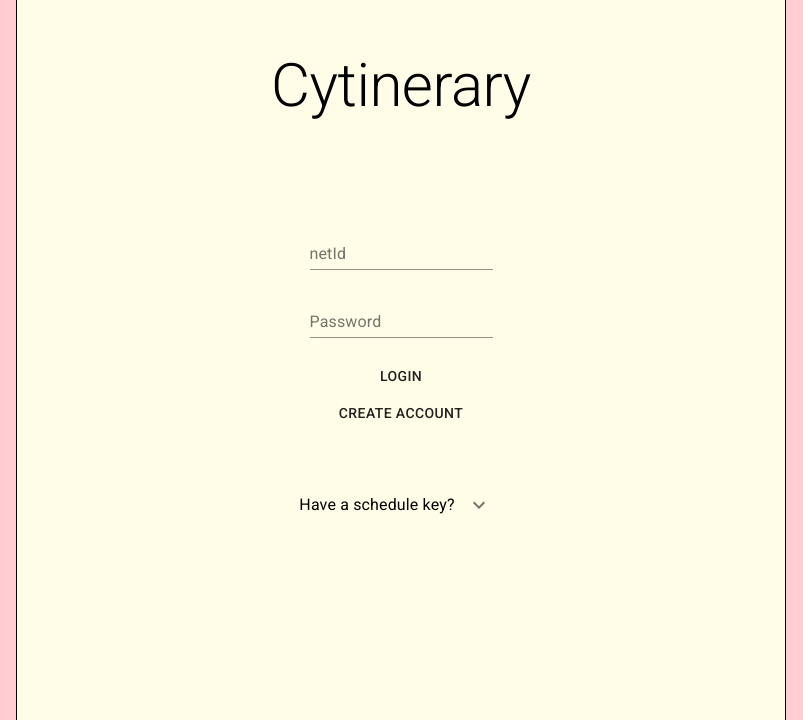
Test: LoginScreen › renders with schedule key section expanded after clicking expand button
Click the 3rd button at (479, 505), box x1=455 y1=481 x2=503 y2=529
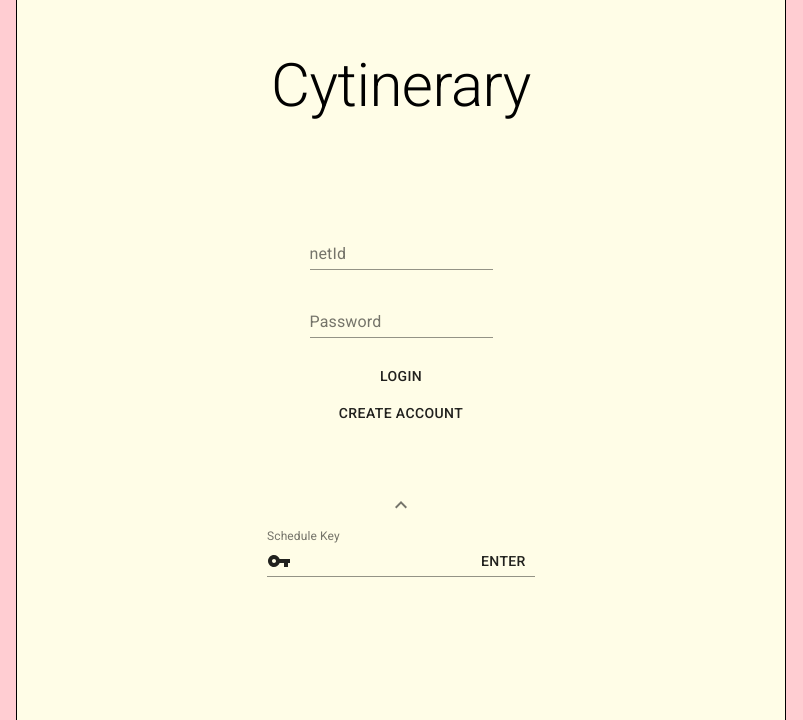
Expected: the text "Schedule Key" is shown, x1=267 y1=530 x2=339 y2=542
Result: the text "Enter" is shown at x1=479 y1=549 x2=527 y2=573
